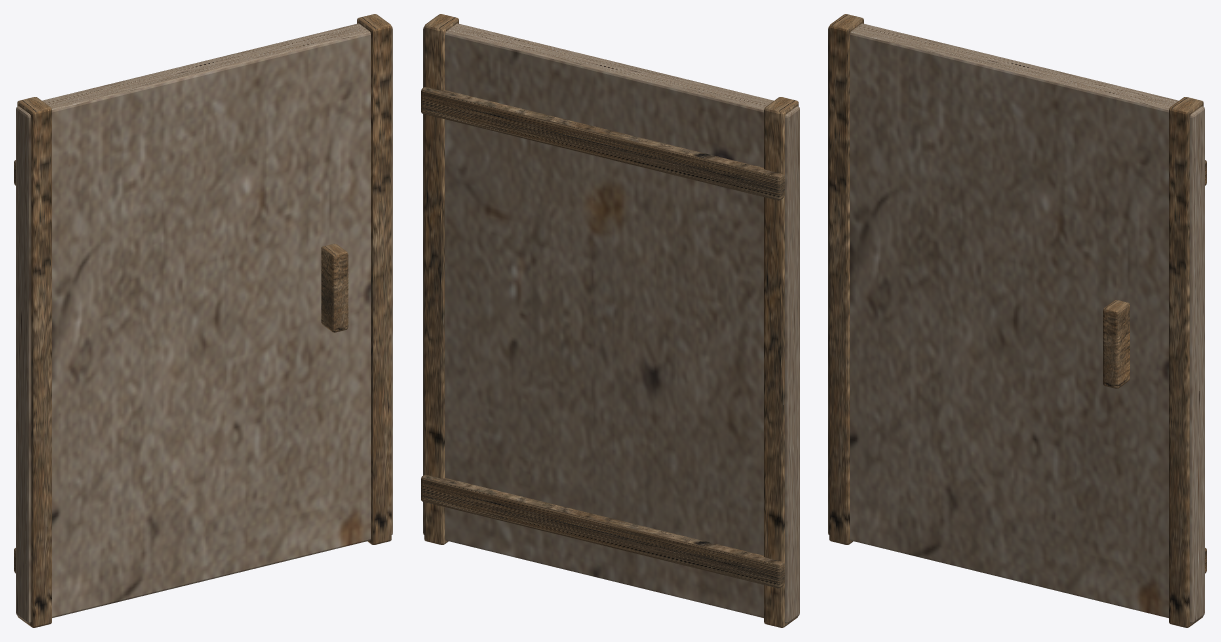
Rendered from door.glb.
The picture shows the model from 3 angles, left to right: view 1: azimuth 30°, elevation 25°; view 2: azimuth 150°, elevation 25°; view 3: azimuth 330°, elevation 25°; orthographic projection.
Parts seen in each view (by area): view 1: Sliding cardboard door, Door edge, Door edge.001, Pull handle; view 2: Sliding cardboard door, Door brace.001, Door brace, Door edge, Door edge.001; view 3: Sliding cardboard door, Door edge.001, Door edge, Pull handle.
Boxes of the visible parts, <box> form: Sliding cardboard door: <box>16,23,392,623</box>; Door edge: <box>17,97,51,627</box>; Door edge.001: <box>357,14,391,544</box>; Pull handle: <box>321,243,348,332</box>; Sliding cardboard door: <box>423,23,799,623</box>; Door brace.001: <box>421,87,784,200</box>; Door brace: <box>421,474,784,588</box>; Door edge: <box>764,97,798,627</box>; Door edge.001: <box>424,14,458,544</box>; Sliding cardboard door: <box>828,23,1204,623</box>; Door edge.001: <box>1169,97,1203,627</box>; Door edge: <box>829,14,863,544</box>; Pull handle: <box>1103,300,1129,388</box>.
Bounding box in the file's own units: 1.27 × 1.72 × 0.2.
3 materials, 3 textured.
